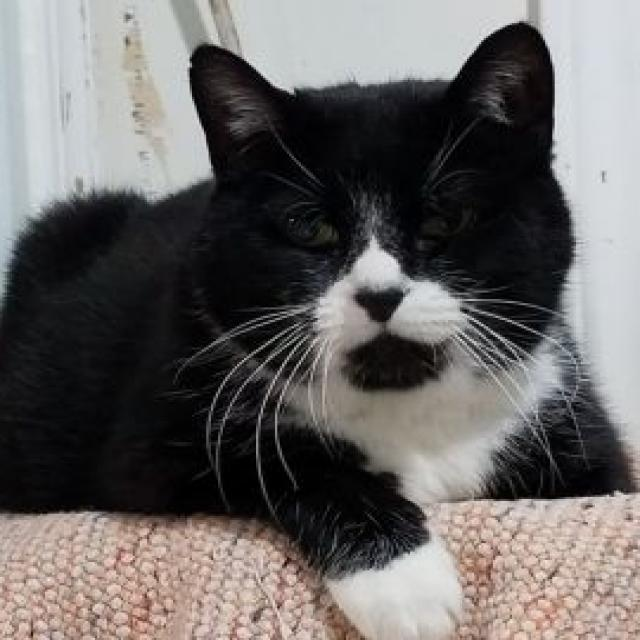Tuxedo: (0, 12, 640, 640)
